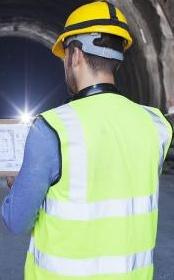hard-hat: (0, 6, 50, 73)
vest: (0, 85, 79, 280)
